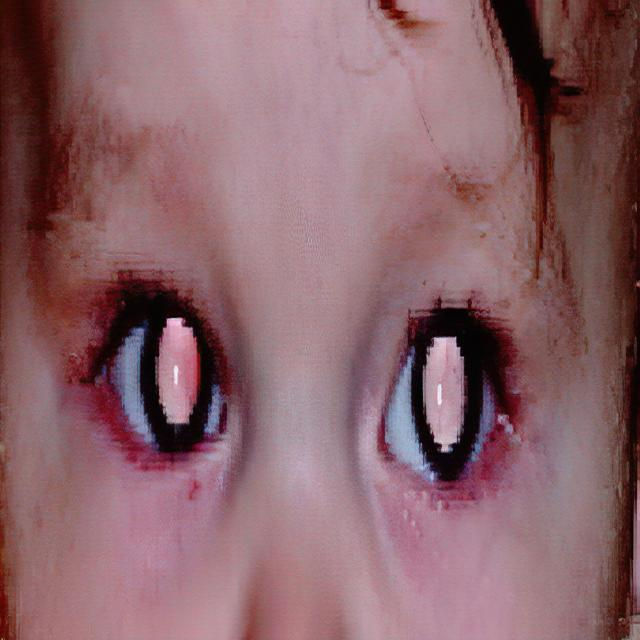reflexo-alterado: (82, 267, 236, 490), (372, 316, 532, 525)
